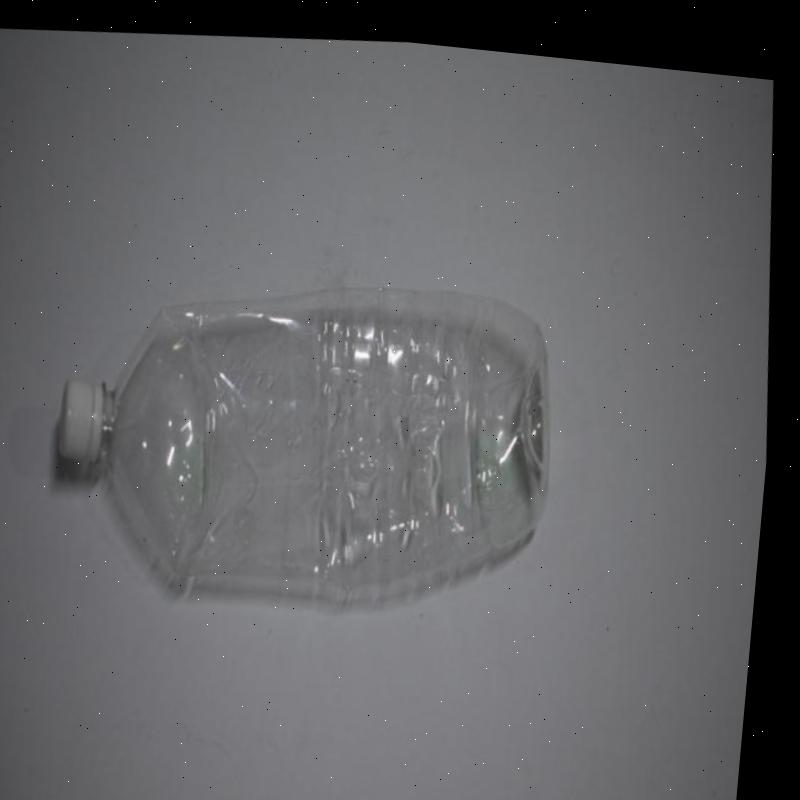botella: (44, 236, 580, 640)
